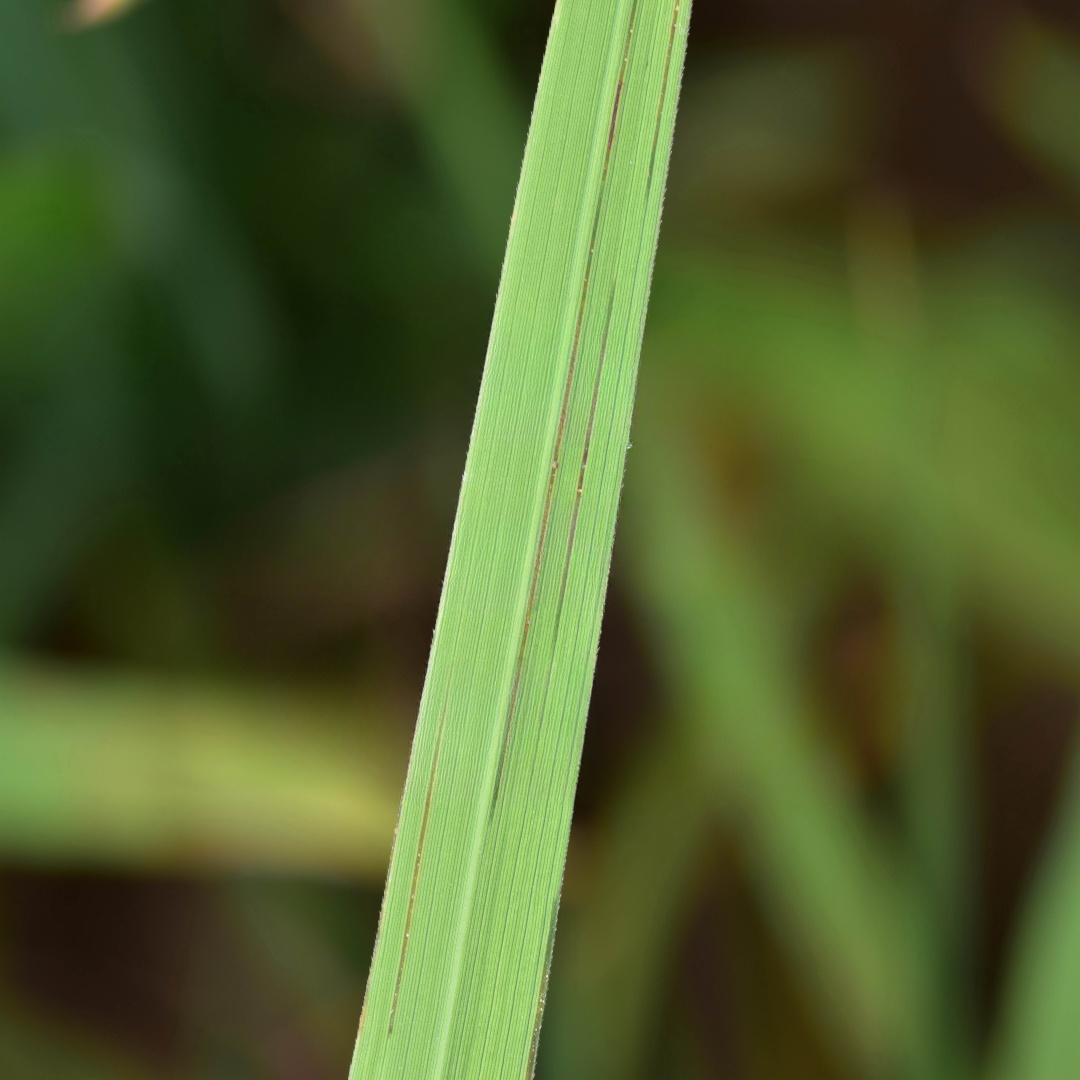BLS: (489, 0, 637, 815), (557, 285, 613, 621), (388, 727, 440, 1035), (645, 0, 680, 201), (524, 897, 558, 1079)
